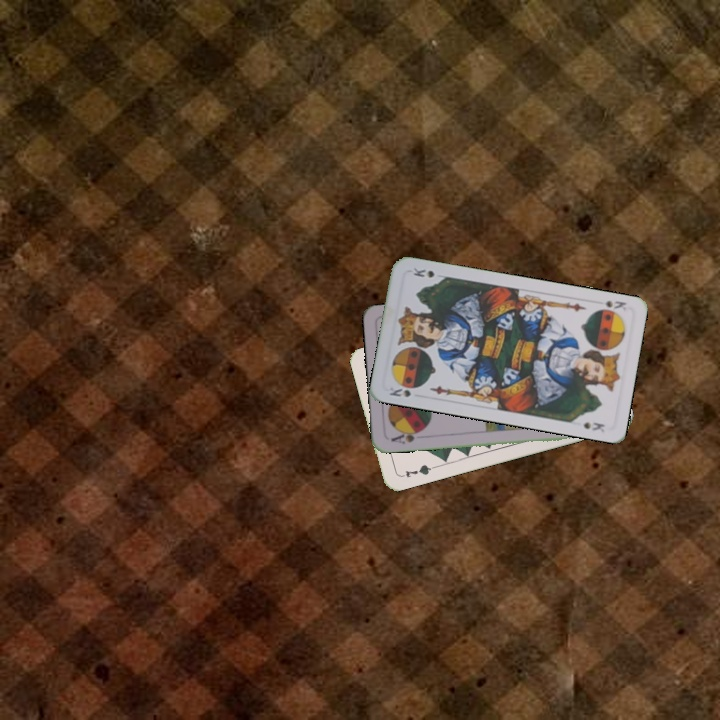G7: (401, 460, 436, 480)
SA: (387, 426, 426, 447)
SK: (600, 296, 632, 313), (385, 383, 413, 400)
